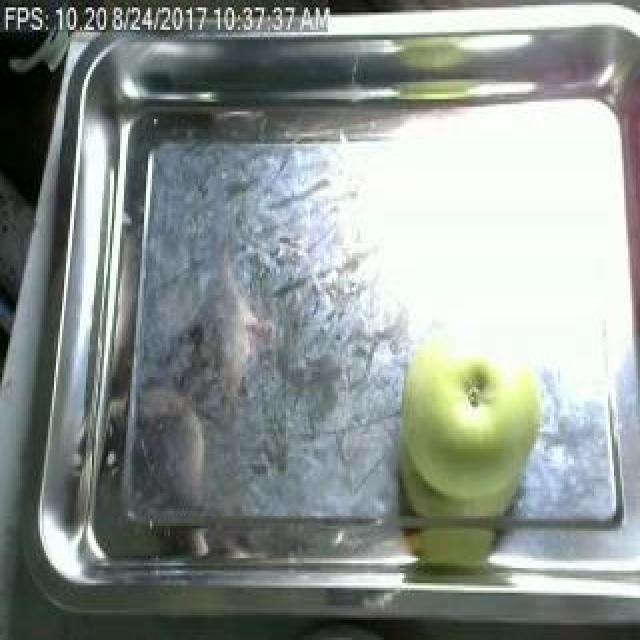Rotten Apple: (396, 310, 558, 501)
